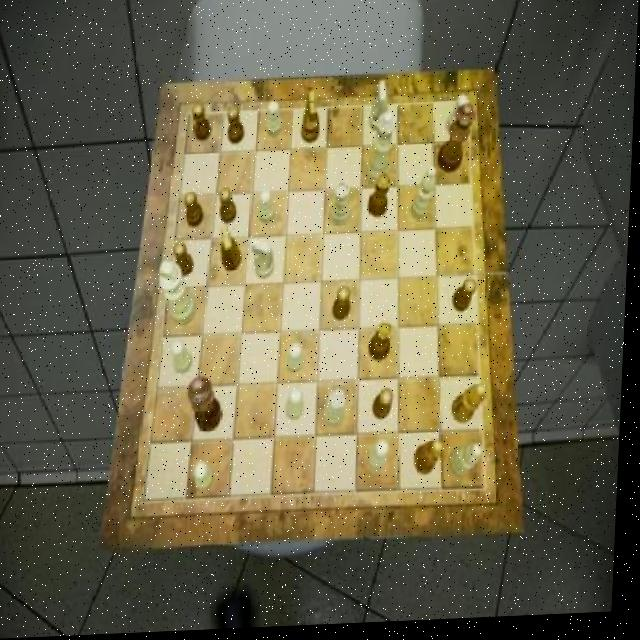bishop: (453, 389, 489, 428), (418, 443, 447, 478)
black-bishop: (190, 378, 228, 435)
black-king: (221, 226, 246, 273), (302, 93, 321, 147)
black-knight: (454, 282, 479, 317), (191, 103, 212, 142), (184, 193, 206, 229), (228, 108, 247, 147), (175, 242, 196, 277), (221, 190, 239, 227), (376, 392, 397, 423), (336, 289, 354, 324)
black-pawn: (439, 108, 477, 178)
black-queen: (368, 175, 392, 222), (371, 326, 396, 367)
black-rook: (412, 170, 438, 225), (453, 447, 487, 483)
white-bishop: (160, 262, 201, 329)
white-king: (252, 239, 277, 283), (369, 83, 390, 135)
white-knight: (446, 99, 470, 140), (172, 340, 196, 376), (371, 443, 394, 474), (267, 102, 286, 139), (259, 192, 277, 227), (289, 390, 307, 423), (197, 464, 218, 492), (290, 346, 309, 375)
white-pawn: (366, 115, 398, 190)
white-queen: (332, 184, 353, 229), (327, 392, 351, 430)
